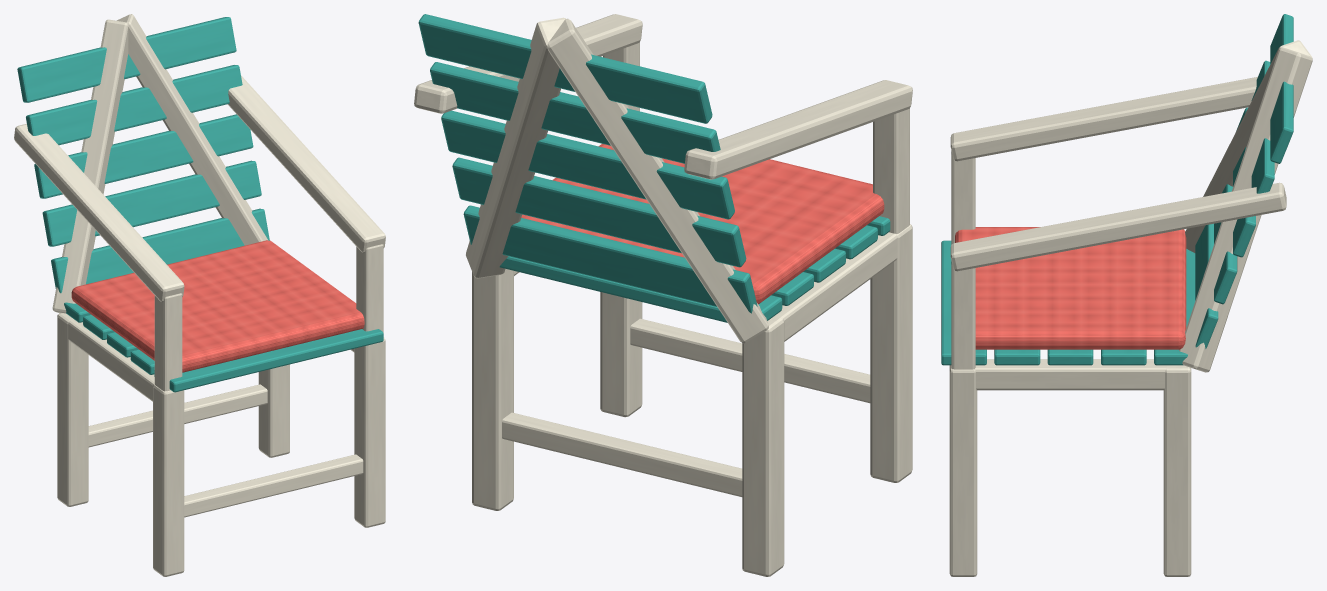
The model's file is beach_chair.glb.
3 renders of one model, left to right at view 1: azimuth 30°, elevation 25°; view 2: azimuth 150°, elevation 25°; view 3: azimuth 270°, elevation 25°, orthographic. The views are drawn at different scales.
Parts seen in each view (by area): view 1: beach_chair_cushion, beach_chair_armrest_l, beach_chair_back_slat4, beach_chair_armrest_r, beach_chair_post_r, beach_chair_post_l, beach_chair_leg_front_l, beach_chair_back_slat3, beach_chair_back_slat1, beach_chair_leg_front_r, beach_chair_leg_rear_l, beach_chair_back_slat2 (+8 smaller); view 2: beach_chair_cushion, beach_chair_leg_rear_l, beach_chair_post_l, beach_chair_leg_front_l, beach_chair_back_slat4, beach_chair_leg_rear_r, beach_chair_back_slat1, beach_chair_back_slat0, beach_chair_back_slat2, beach_chair_post_r, beach_chair_back_slat3, beach_chair_armrest_l (+10 smaller); view 3: beach_chair_cushion, beach_chair_armrest_r, beach_chair_armrest_l, beach_chair_post_r, beach_chair_leg_rear_r, beach_chair_leg_front_r, beach_chair_rail_r, beach_chair_armpost_r, beach_chair_post_l, beach_chair_back_slat4, beach_chair_armpost_l, beach_chair_seat_slat0 (+8 smaller).
Boxes of the visible parts, bbox=[...] form: beach_chair_cushion: bbox=[71, 240, 364, 372]; beach_chair_armrest_l: bbox=[14, 123, 184, 302]; beach_chair_back_slat4: bbox=[17, 17, 236, 102]; beach_chair_armrest_r: bbox=[227, 75, 385, 253]; beach_chair_post_r: bbox=[117, 14, 270, 245]; beach_chair_post_l: bbox=[52, 19, 128, 313]; beach_chair_leg_front_l: bbox=[153, 384, 184, 576]; beach_chair_back_slat3: bbox=[26, 65, 242, 145]; beach_chair_back_slat1: bbox=[42, 160, 261, 246]; beach_chair_leg_front_r: bbox=[354, 337, 385, 527]; beach_chair_leg_rear_l: bbox=[57, 313, 88, 506]; beach_chair_back_slat2: bbox=[34, 114, 253, 198]; beach_chair_cushion: bbox=[521, 144, 884, 304]; beach_chair_leg_rear_l: bbox=[742, 316, 784, 576]; beach_chair_post_l: bbox=[547, 18, 768, 343]; beach_chair_leg_front_l: bbox=[870, 224, 912, 482]; beach_chair_back_slat4: bbox=[418, 14, 712, 123]; beach_chair_leg_rear_r: bbox=[472, 269, 513, 510]; beach_chair_back_slat1: bbox=[452, 157, 746, 267]; beach_chair_back_slat0: bbox=[463, 205, 757, 313]; beach_chair_back_slat2: bbox=[441, 110, 734, 219]; beach_chair_post_r: bbox=[466, 17, 565, 278]; beach_chair_back_slat3: bbox=[430, 62, 720, 163]; beach_chair_armrest_l: bbox=[684, 80, 912, 179]; beach_chair_cushion: bbox=[955, 227, 1186, 349]; beach_chair_armrest_r: bbox=[950, 182, 1286, 271]; beach_chair_armrest_l: bbox=[950, 77, 1257, 161]; beach_chair_post_r: bbox=[1179, 47, 1312, 372]; beach_chair_leg_rear_r: bbox=[1163, 365, 1191, 576]; beach_chair_leg_front_r: bbox=[949, 365, 977, 576]; beach_chair_rail_r: bbox=[974, 359, 1166, 390]; beach_chair_armpost_r: bbox=[951, 261, 975, 369]; beach_chair_post_l: bbox=[1185, 40, 1312, 252]; beach_chair_back_slat4: bbox=[1270, 14, 1293, 163]; beach_chair_armpost_l: bbox=[951, 151, 975, 244]; beach_chair_seat_slat0: bbox=[941, 240, 986, 365].
Size of the model in its own units: 0.5039 by 0.8977 by 0.6424.
Materials: 3 (3 with a texture image).
